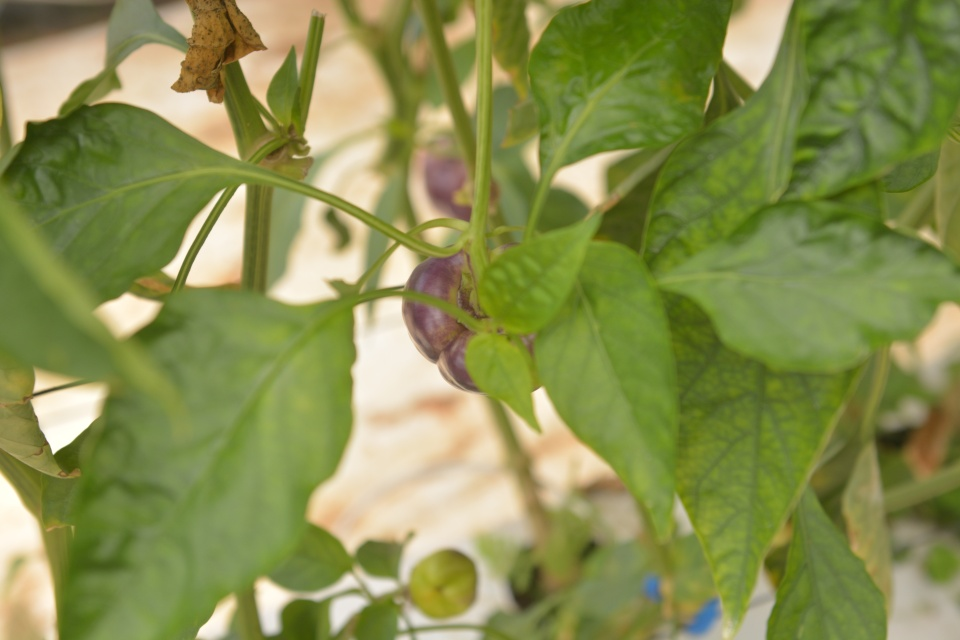fruit: (399, 252, 547, 399), (423, 132, 501, 223)
immature: (405, 545, 480, 623)
